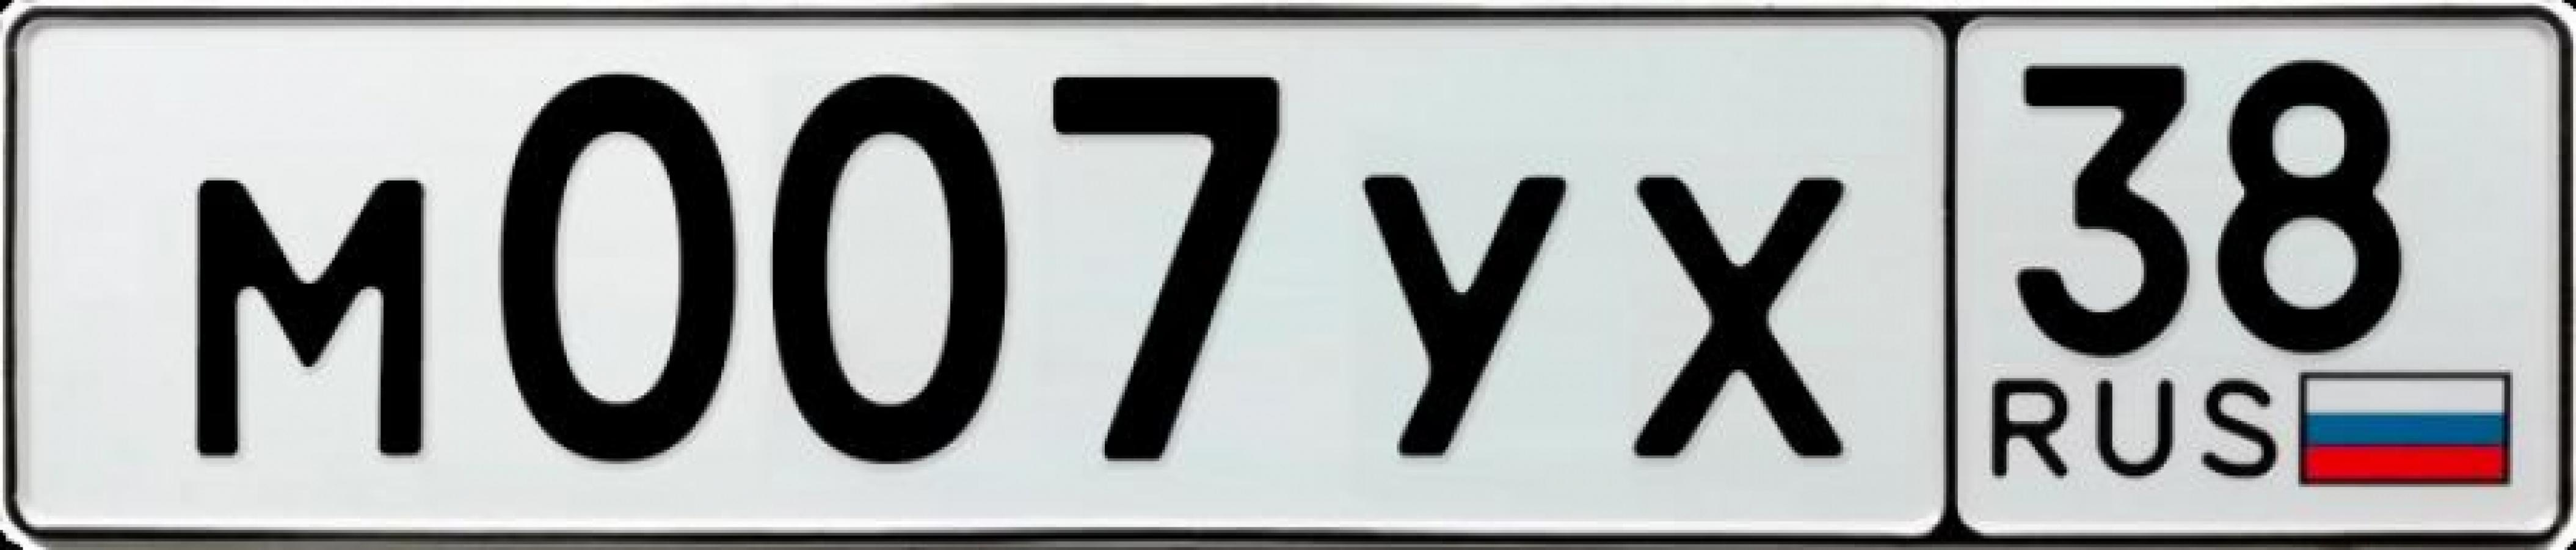number_plate: (12, 18, 2555, 520)
